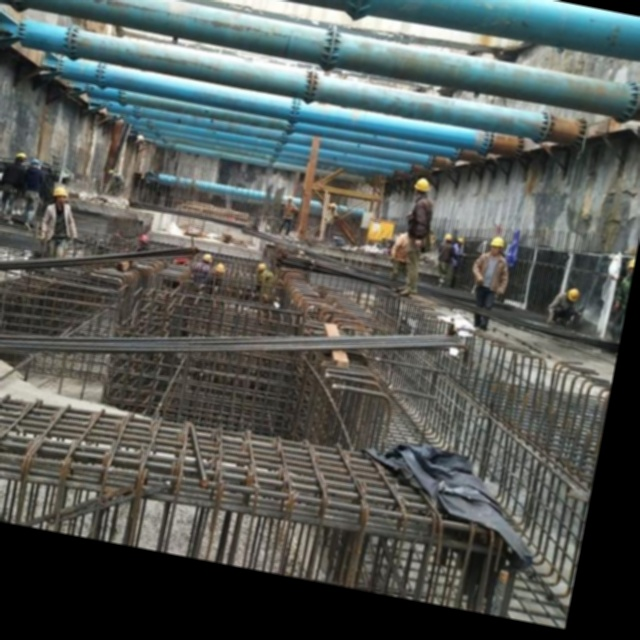Con_Casco: (413, 177, 432, 197), (488, 235, 504, 253)
Sin_Chaleco: (404, 197, 436, 237), (43, 201, 75, 239), (476, 251, 507, 290)
